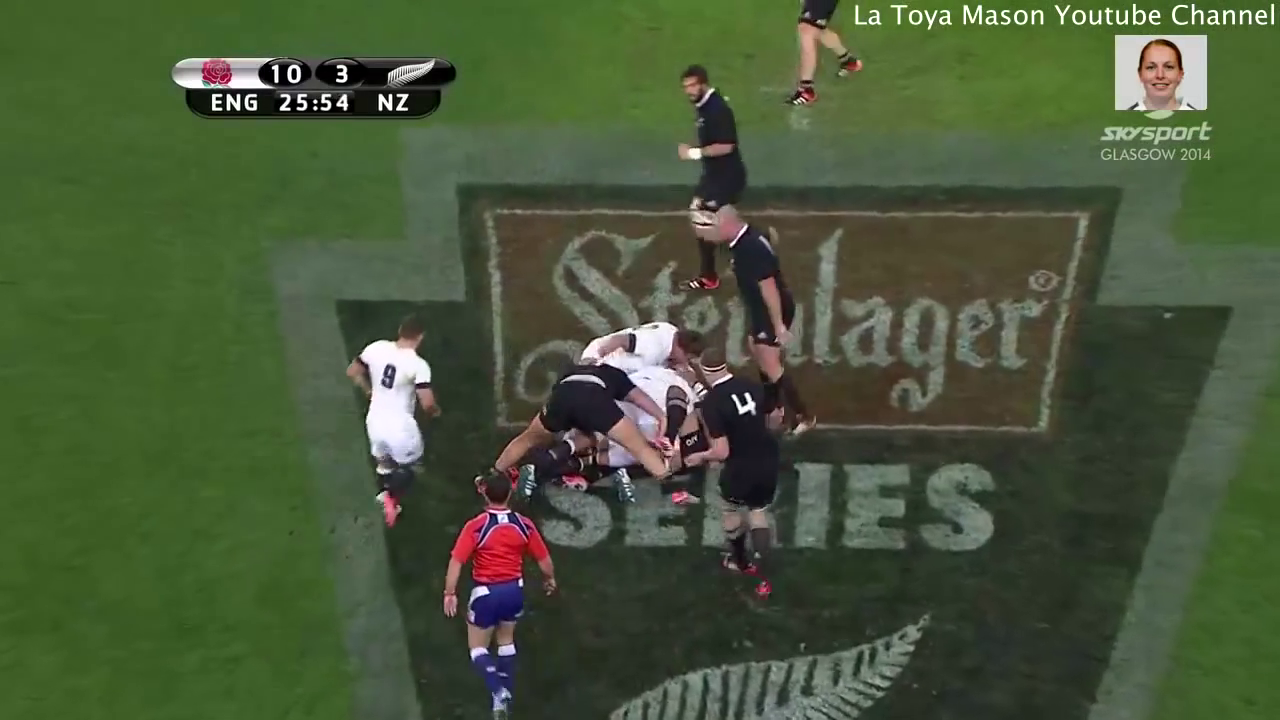player: (424, 466, 574, 720), (466, 353, 707, 510), (681, 335, 796, 608), (706, 201, 827, 439), (338, 306, 445, 540), (660, 61, 761, 296), (787, 1, 869, 111), (569, 310, 713, 370)
ruck: (467, 324, 766, 519)
